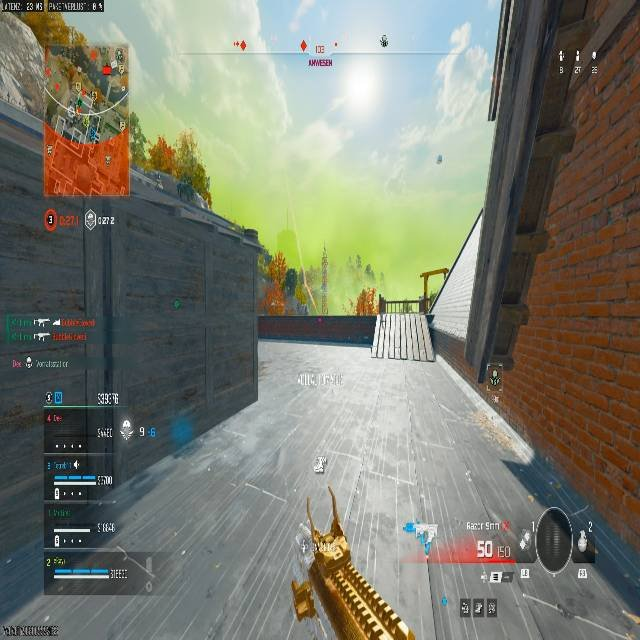player: (263, 253, 296, 314)
